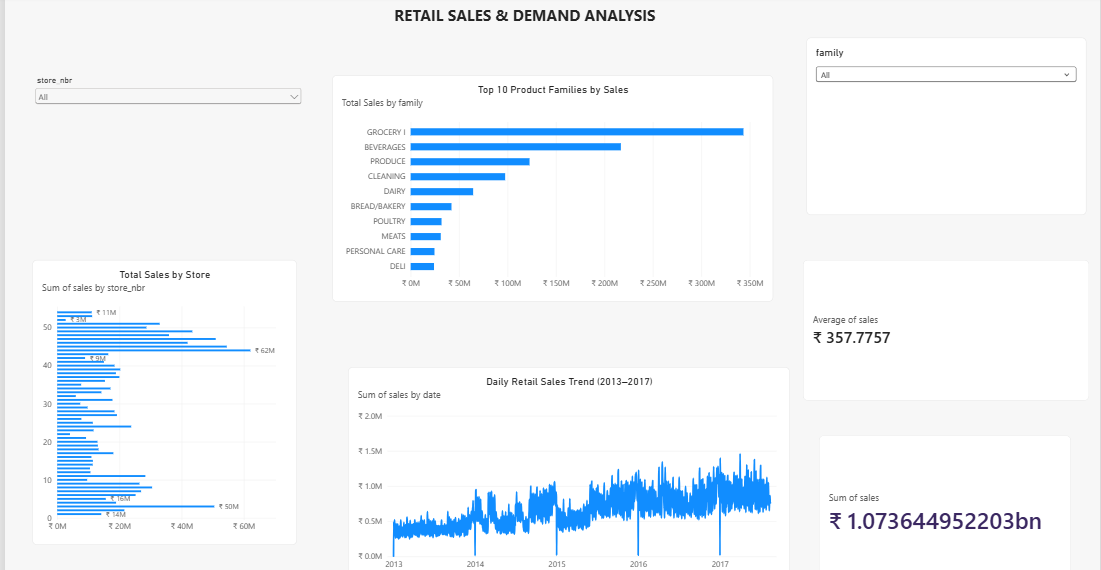

The page's visual inventory and layout, read from the dashboard file:
{"tool":"powerbi","page":{"name":"Page 1","canvas":[1920,1080],"ordinal":0},"visuals":[{"type":"cardVisual","fields":{"Data":["Sum(retail_daily_aggregated.sales)"]},"box":[1427.3,791.8,443,273.9],"z":0},{"type":"clusteredBarChart","title":"Top 10 Product Families by Sales","fields":{"Category":["retail_daily_aggregated.family"],"Y":["Sum(retail_daily_aggregated.sales)"]},"box":[573.5,160.5,774,397.6],"z":1000},{"type":"lineChart","title":"Daily Retail Sales Trend (2013–2017)","fields":{"Category":["retail_daily_aggregated.date"],"Y":["Sum(retail_daily_aggregated.sales)"]},"box":[601.2,672,774.3,377.7],"z":2000},{"type":"slicer","fields":{"Values":["retail_daily_aggregated.store_nbr"]},"box":[47.1,160.5,477.2,246.1],"z":3000},{"type":"listSlicer","fields":{"Values":["retail_daily_aggregated.family"]},"box":[1405.9,94.2,491,311.6],"z":4000},{"type":"cardVisual","fields":{"Data":["Avg(retail_daily_aggregated.sales)"]},"box":[1399.5,483.6,502,247.1],"z":5000},{"type":"textbox","box":[472.2,35.5,880.5,58.6],"z":6000},{"type":"clusteredBarChart","title":"Total Sales by Store","fields":{"Category":["retail_daily_aggregated.store_nbr"],"Y":["Sum(retail_daily_aggregated.sales)"]},"box":[47.5,483.8,463.8,500],"z":7000}]}

Visuals, with their boxes on the page's 1920x1080 design canvas (x1, y1, x2, y2). These are canvas units, not pixel positions in the 1101x570 screenshot, which may show the page scaled, cropped or inside an application window:
cardVisual - Sum(retail_daily_aggregated.sales): {"left": 1427, "top": 792, "right": 1870, "bottom": 1066}
"Top 10 Product Families by Sales" clusteredBarChart: {"left": 574, "top": 160, "right": 1348, "bottom": 558}
"Daily Retail Sales Trend (2013–2017)" lineChart: {"left": 601, "top": 672, "right": 1376, "bottom": 1050}
slicer - retail_daily_aggregated.store_nbr: {"left": 47, "top": 160, "right": 524, "bottom": 407}
listSlicer - retail_daily_aggregated.family: {"left": 1406, "top": 94, "right": 1897, "bottom": 406}
cardVisual - Avg(retail_daily_aggregated.sales): {"left": 1400, "top": 484, "right": 1902, "bottom": 731}
textbox: {"left": 472, "top": 36, "right": 1353, "bottom": 94}
"Total Sales by Store" clusteredBarChart: {"left": 48, "top": 484, "right": 511, "bottom": 984}
